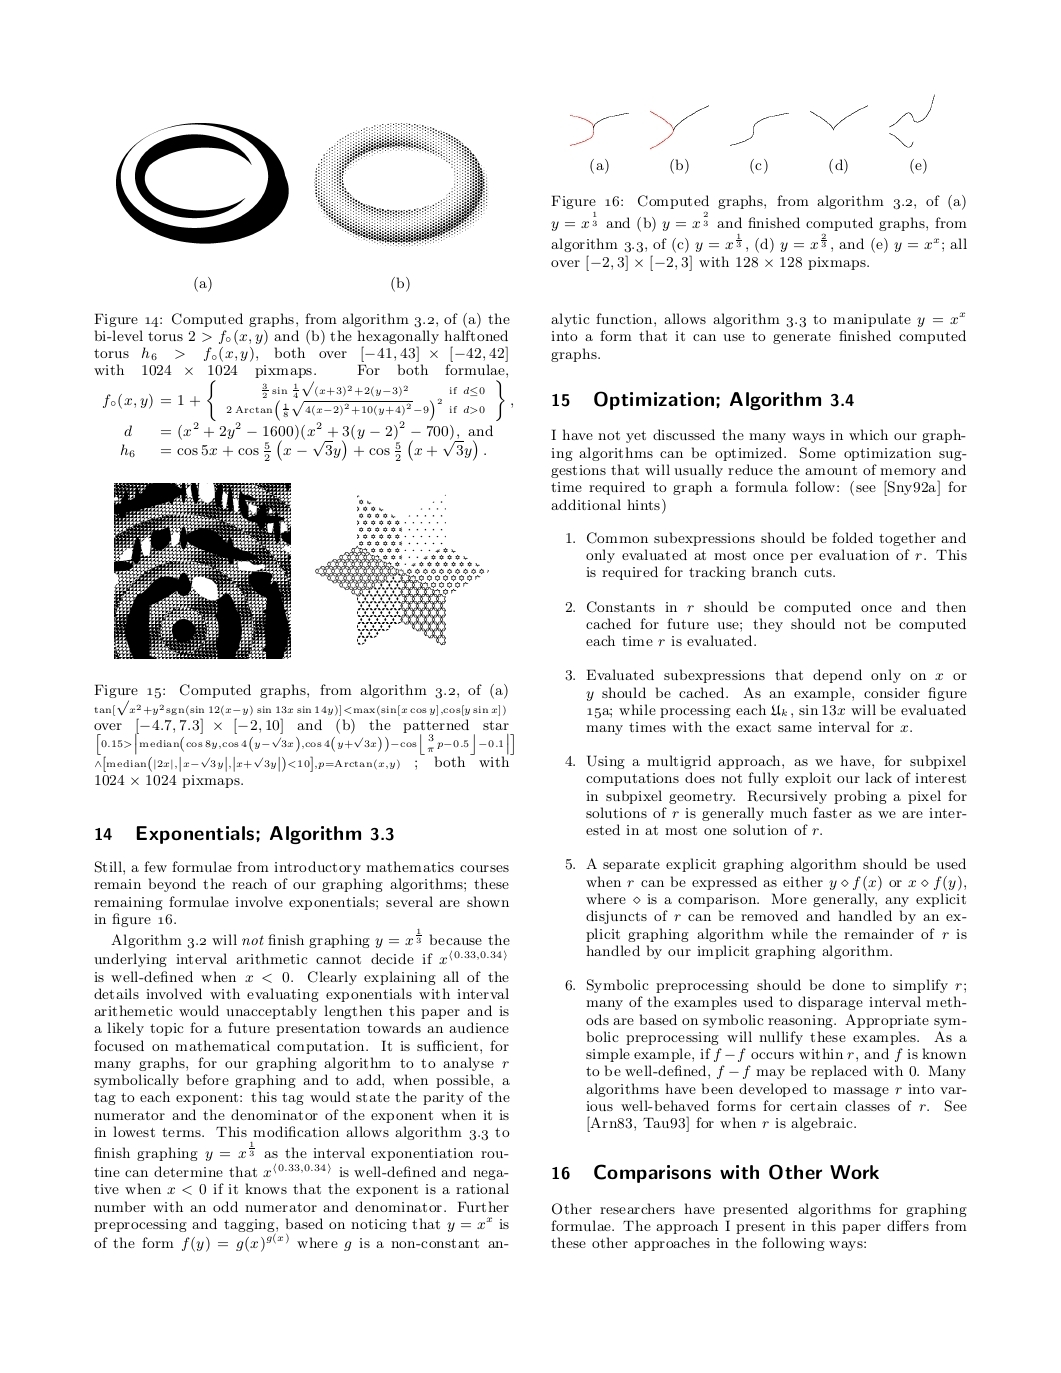figure: (114, 483, 290, 658), (315, 494, 488, 645), (313, 123, 488, 246), (116, 123, 288, 243), (570, 113, 627, 163), (650, 105, 708, 149), (889, 94, 934, 147), (730, 113, 788, 145), (810, 105, 867, 130)
formula: (103, 380, 512, 420), (120, 440, 485, 460), (124, 421, 491, 439), (94, 700, 505, 715)
